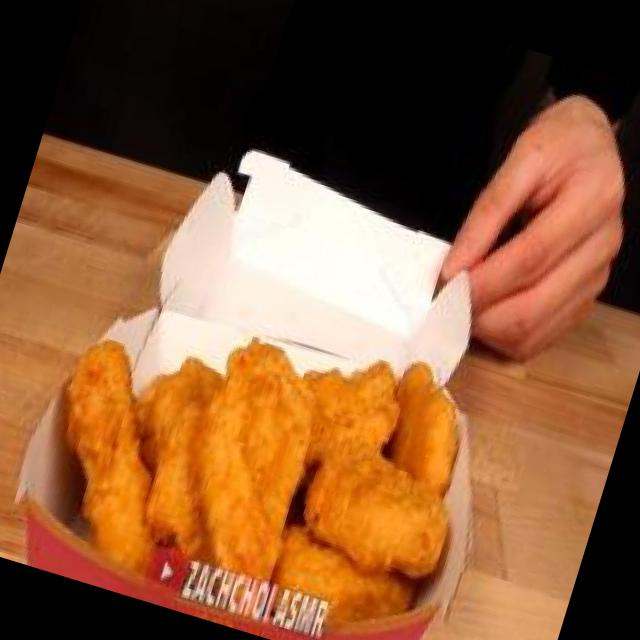nugget: (6, 219, 519, 640)
